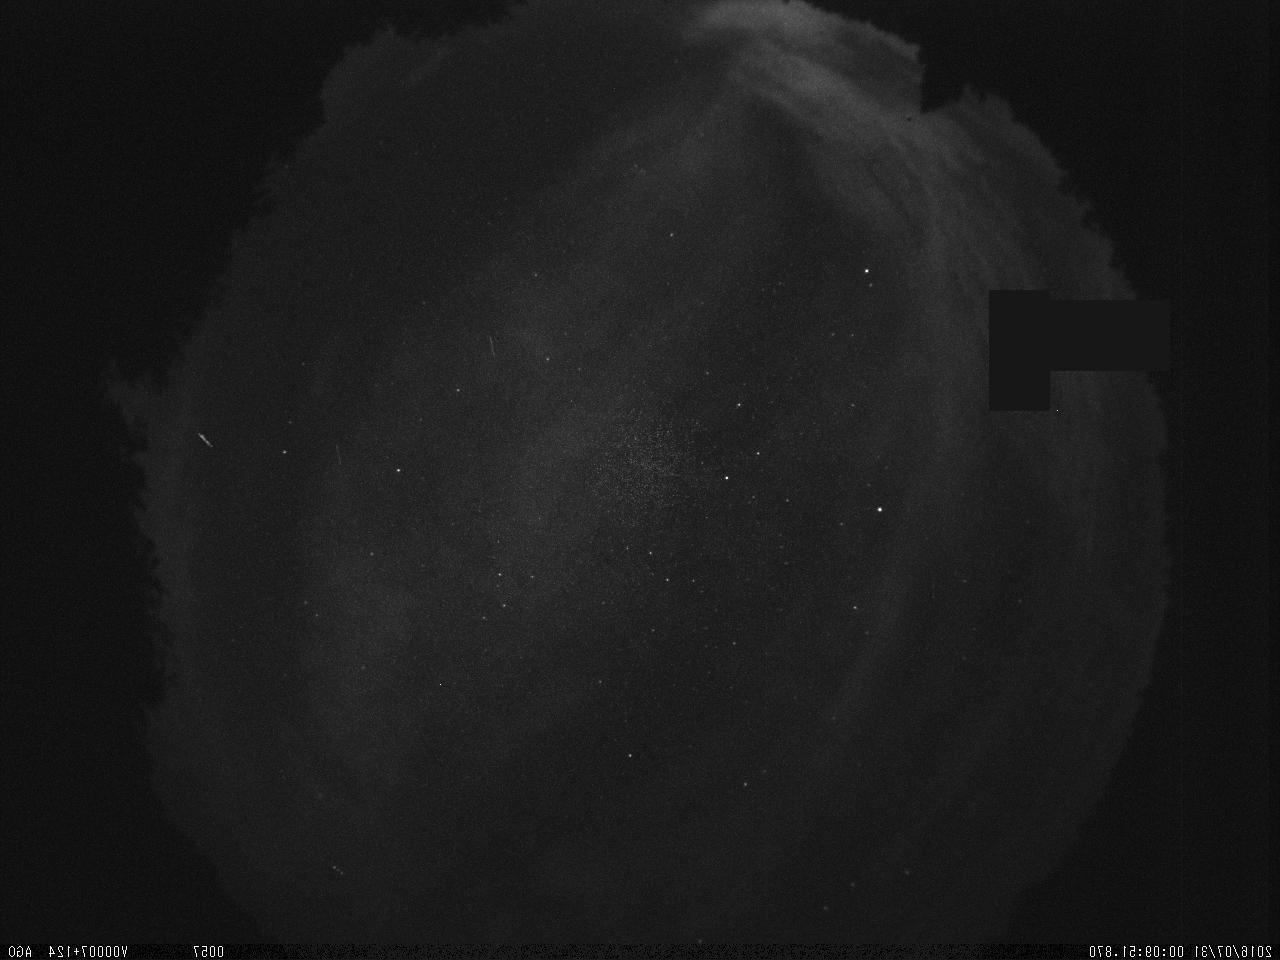meteor: (187, 425, 221, 458)
